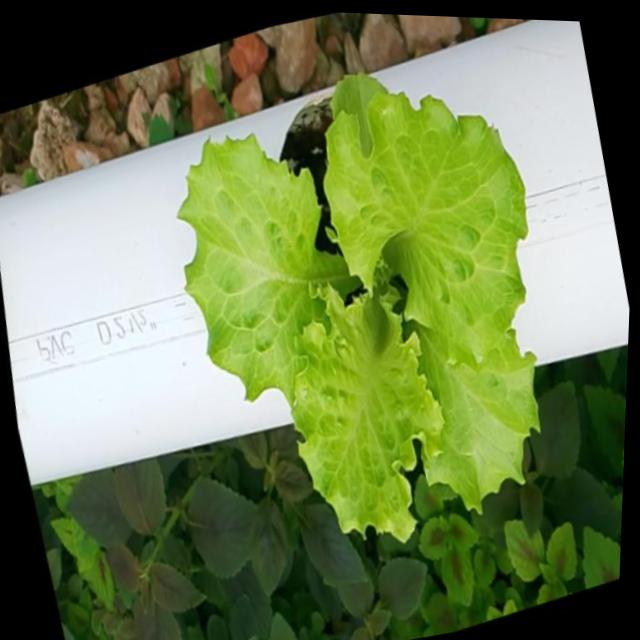Baby: (182, 85, 542, 553)
